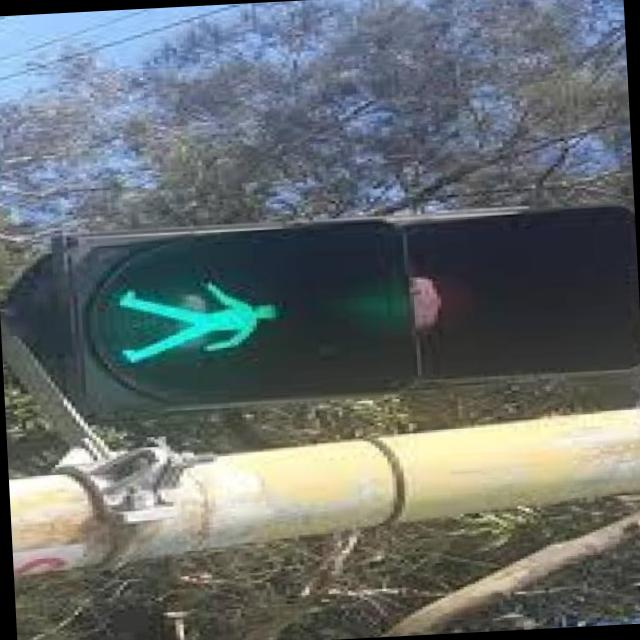green_light: (107, 256, 289, 382)
